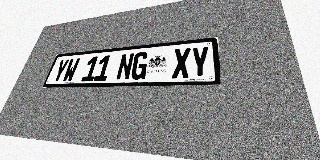1: (93, 55, 113, 81), (81, 56, 100, 81)
G: (130, 51, 149, 80)
N: (115, 53, 135, 80)
W: (61, 58, 80, 82)
X: (172, 48, 191, 79)
Y: (190, 46, 210, 78), (51, 59, 70, 82)
